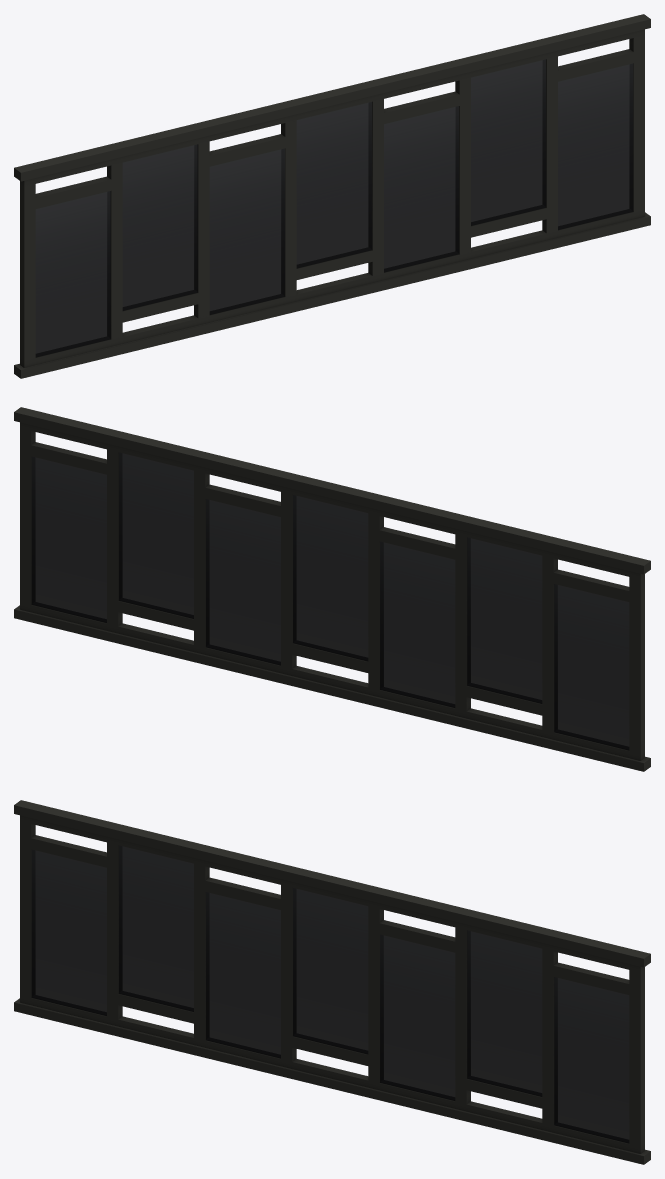
Rendered from glass-gate-vertical.glb.
3 views of the same model, one above another, from view 1: azimuth 30°, elevation 25°; view 2: azimuth 150°, elevation 25°; view 3: azimuth 330°, elevation 25° (orthographic).
Parts seen in each view (by area): view 1: Glass, Frame, Gasket; view 2: Glass, Frame, Gasket; view 3: Glass, Frame, Gasket.
Boxes of the visible parts, x1,y1,x2,y2 form: Glass: (35, 59, 633, 357); Frame: (14, 14, 650, 378); Gasket: (36, 205, 632, 356); Glass: (31, 452, 629, 750); Frame: (14, 407, 650, 771); Gasket: (32, 598, 628, 749); Glass: (31, 845, 629, 1143); Frame: (14, 800, 650, 1164); Gasket: (32, 991, 628, 1142).
Size of the model in its own units: 4.16 by 1.3 by 0.08.
3 materials, 2 textured.
